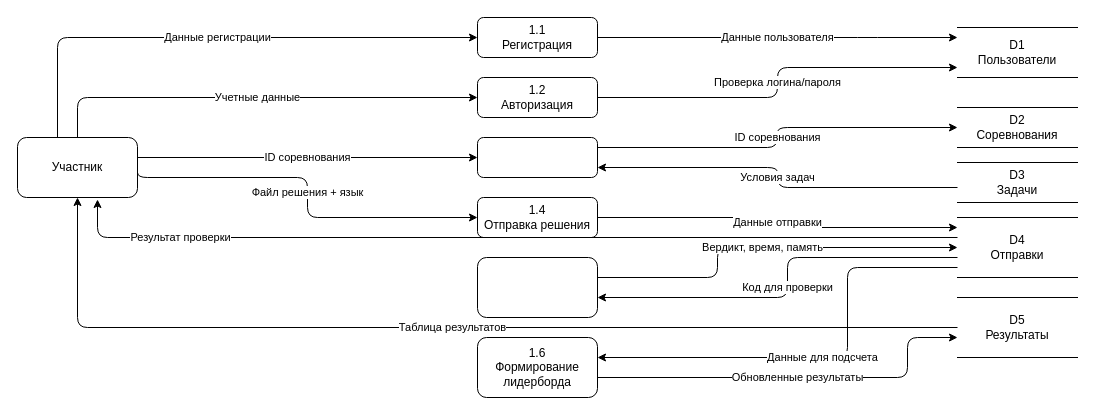
Some shapes in this 1095 by 415 pixel diagram are drawn without their labels. The centre of each missing label's shape, as x and y in pixels:
1.3 Просмотр задач: the point at 537,157
1.5 Проверка решения: the point at 537,287
